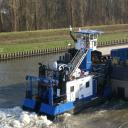tugboat: (22, 25, 114, 126)
